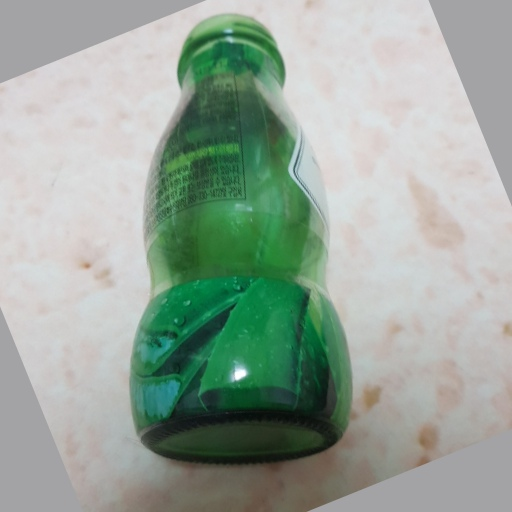Glass_4: (130, 10, 354, 461)
